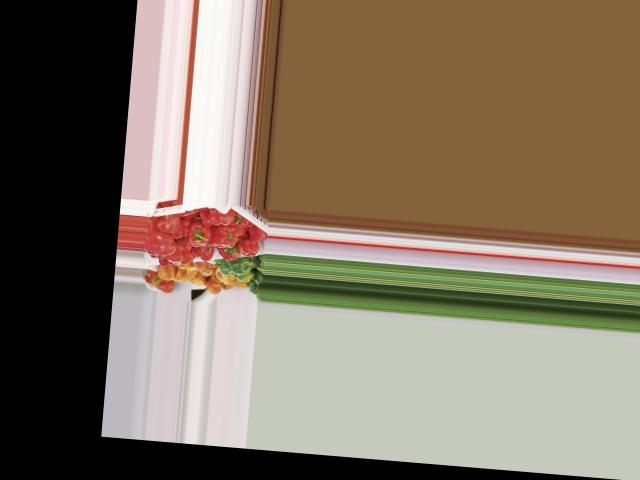bell_pepper: (198, 204, 235, 227)
